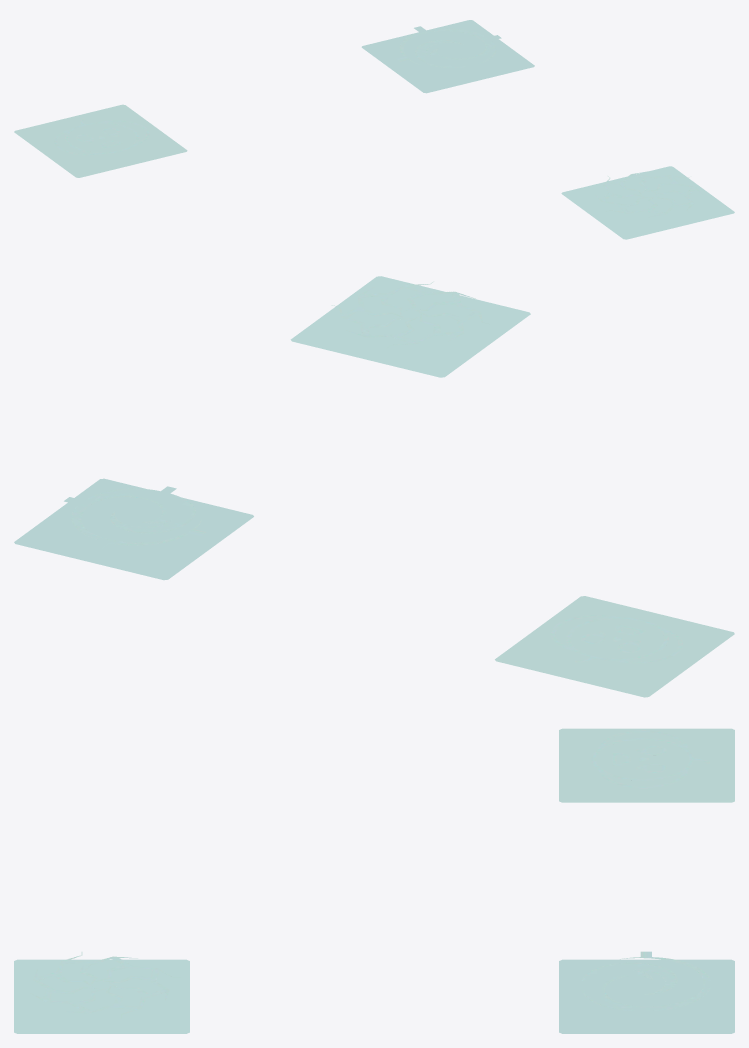
The model's file is projectsPlates.glb.
3 renders of one model, top to bottom at view 1: azimuth 30°, elevation 25°; view 2: azimuth 150°, elevation 25°; view 3: azimuth 270°, elevation 25°, orthographic. The views are drawn at different scales.
Parts seen in each view (by area): view 1: seaPlate, portalPlate, halloweenPlate; view 2: seaPlate, portalPlate, halloweenPlate; view 3: seaPlate, portalPlate, halloweenPlate.
Part boxes in pixels (x1,y1,x2,y2): seaPlate: [361, 20, 534, 93]; portalPlate: [561, 166, 734, 239]; halloweenPlate: [14, 104, 187, 177]; seaPlate: [14, 478, 253, 580]; portalPlate: [290, 276, 530, 377]; halloweenPlate: [495, 596, 734, 697]; seaPlate: [559, 951, 734, 1033]; portalPlate: [14, 952, 189, 1033]; halloweenPlate: [559, 728, 734, 802].
Size of the model in its own units: 6.04 by 0.1097 by 6.03.
Materials: 3 (3 with a texture image).
